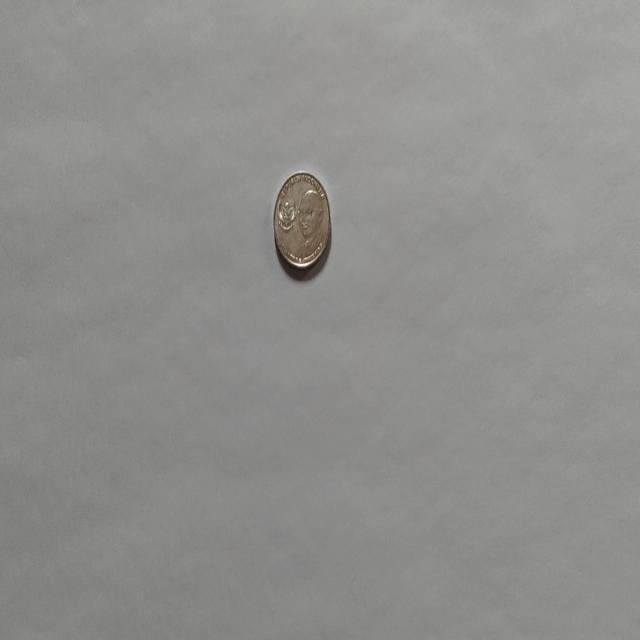lima ratus rupiah: (272, 170, 331, 272)
